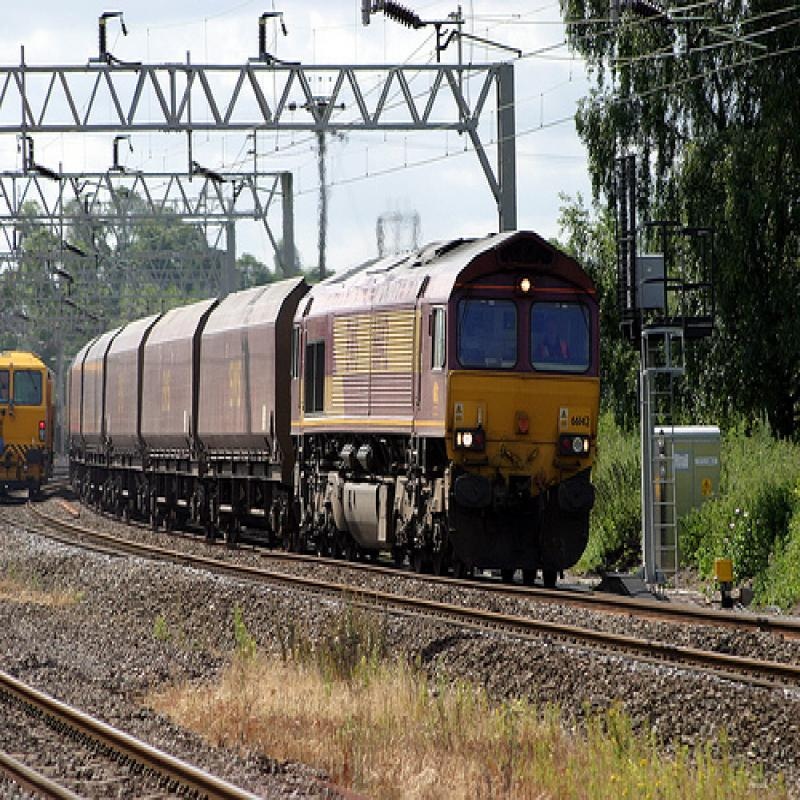train: (70, 234, 603, 585), (3, 352, 59, 503)
